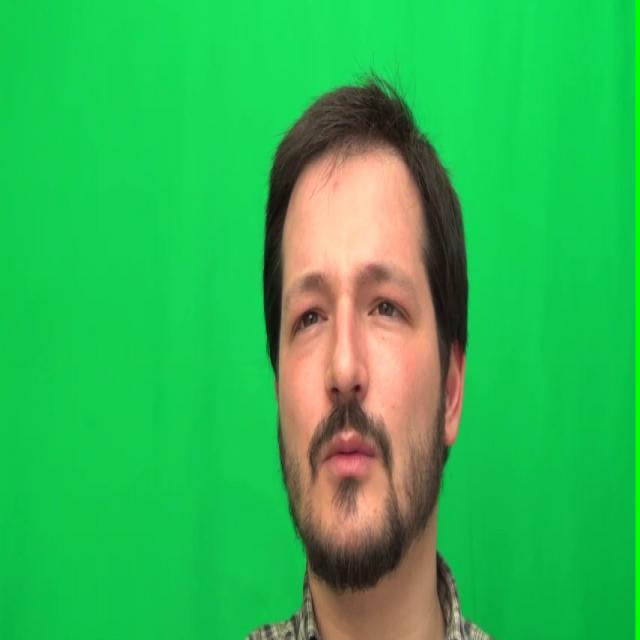Engaged: (271, 159, 442, 569)
